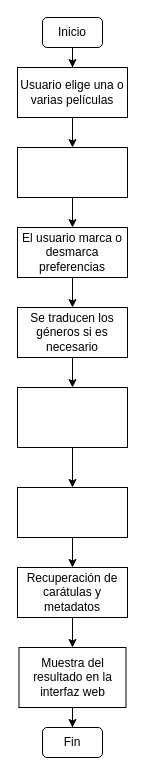
This 145x775 diagram has some shape labels left out. Here are the shapes that lost their labels. From the top down, the box of each, then its label:
(16, 146, 128, 198): Consulta y extracción de datos del dataset
(16, 386, 128, 448): Consulta del modelo de recomendaciones con las preferencias
(16, 486, 128, 538): Generación de una lista de películas similares
